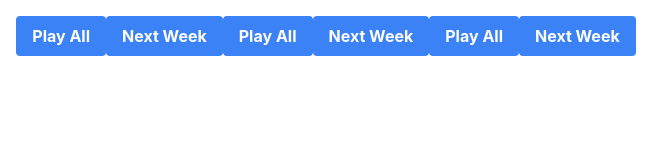
Scenario: Actions component › handles the "Play All" button click and auto-play
The width and height of the screenshot is (653, 160).
Click the 3rd button "Play All": click(474, 36) [429,16,519,56]
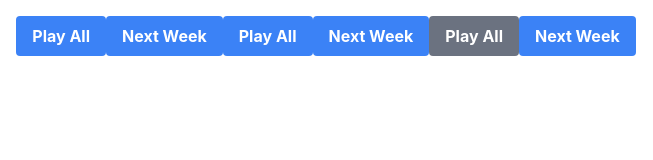
Check: the 3rd button "Play All" is disabled, box [429,16,519,56]
